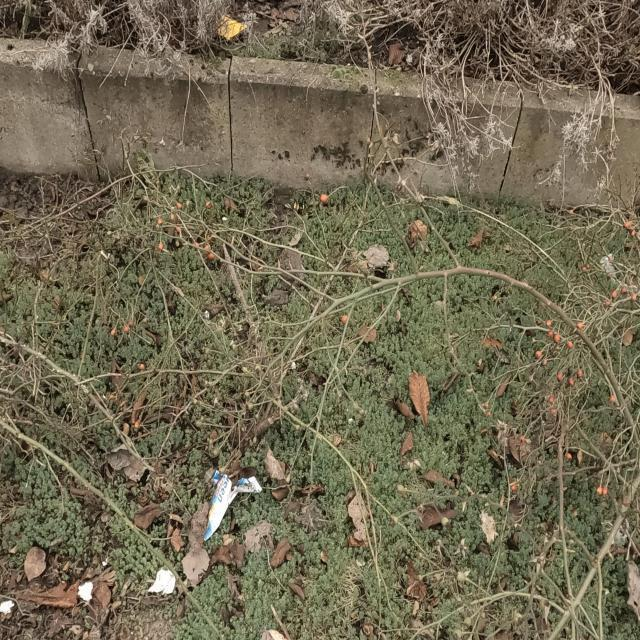Plastic: (212, 469, 250, 536)
